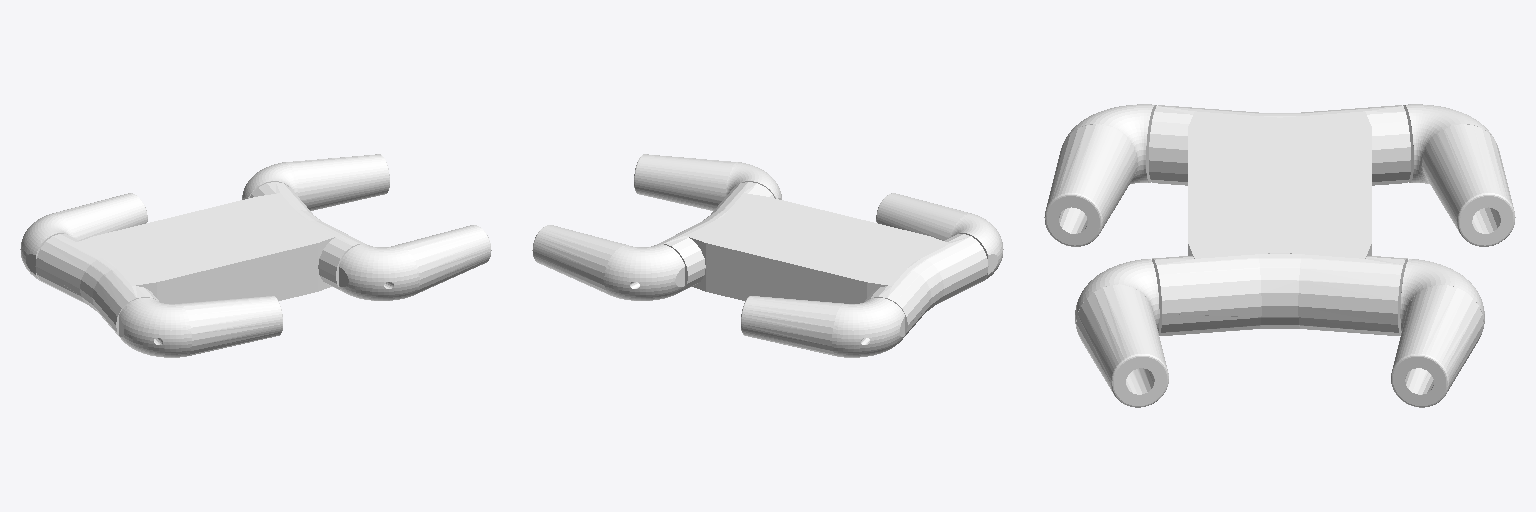
URDF robot description (10_degree):
<?xml version="1.0" encoding="utf-8"?>
<!-- This URDF was automatically created by SolidWorks to URDF Exporter! Originally created by [author] ([email redacted]) 
     Commit Version: 1.5.1-0-g916b5db  Build Version: 1.5.7152.31018
     For more information, please see http://wiki.ros.org/sw_urdf_exporter -->
<robot
  name="10_degree">
  <link
    name="base_link">
    <inertial>
      <origin
        xyz="0 3.7169E-08 3.4694E-18"
        rpy="0 0 0" />
      <mass
        value="2.803" />
      <inertia
        ixx="0.010172985"
        ixy="-1.8326E-18"
        ixz="-8.6349E-11"
        iyy="0.038644490"
        iyz="2.312E-19"
        izz="0.046455070" />
    </inertial>
    <visual>
      <origin
        xyz="0 0 0"
        rpy="0 0 0" />
      <geometry>
        <mesh
          filename="package://10_degree/meshes/base_link.STL" />
      </geometry>
      <material
        name="">
        <color
          rgba="1 1 1 1" />
      </material>
    </visual>
    <collision>
      <origin
        xyz="0 0 0"
        rpy="0 0 0" />
      <geometry>
        <mesh
          filename="package://10_degree/meshes/base_link.STL" />
      </geometry>
    </collision>
  </link>
  <link
    name="left_fromt_link">
    <inertial>
      <origin
        xyz="-2.4339E-08 0.056977 -0.025628"
        rpy="0 0 0" />
      <mass
        value="0.085" />
      <inertia
        ixx="0.000238681"
        ixy="3.9353E-10"
        ixz="9.9842E-10"
        iyy="0.000047092"
        iyz="-1.2438E-05"
        izz="0.000237523" />
    </inertial>
    <visual>
      <origin
        xyz="0 0 0"
        rpy="0 0 0" />
      <geometry>
        <mesh
          filename="package://10_degree/meshes/left_fromt_link.STL" />
      </geometry>
      <material
        name="">
        <color
          rgba="1 1 1 1" />
      </material>
    </visual>
    <collision>
      <origin
        xyz="0 0 0"
        rpy="0 0 0" />
      <geometry>
        <mesh
          filename="package://10_degree/meshes/left_fromt_link.STL" />
      </geometry>
    </collision>
  </link>
  <joint
    name="left_front_leg"
    type="continuous">
    <origin
      xyz="0.15289 0.10144 0"
      rpy="1.5708 1.5708 0" />
    <parent
      link="base_link" />
    <child
      link="left_fromt_link" />
    <axis
      xyz="0 0.17365 -0.98481" />
    <limit
      effort="5"
      velocity="487" />
  </joint>
  <link
    name="right_front_link">
    <inertial>
      <origin
        xyz="2.4339E-08 0.056977 0.025628"
        rpy="0 0 0" />
      <mass
        value="0.085" />
      <inertia
        ixx="0.000238681"
        ixy="-3.9353E-10"
        ixz="9.9842E-10"
        iyy="0.000047092"
        iyz="1.2438E-05"
        izz="0.000237523" />
    </inertial>
    <visual>
      <origin
        xyz="0 0 0"
        rpy="0 0 0" />
      <geometry>
        <mesh
          filename="package://10_degree/meshes/right_front_link.STL" />
      </geometry>
      <material
        name="">
        <color
          rgba="1 1 1 1" />
      </material>
    </visual>
    <collision>
      <origin
        xyz="0 0 0"
        rpy="0 0 0" />
      <geometry>
        <mesh
          filename="package://10_degree/meshes/right_front_link.STL" />
      </geometry>
    </collision>
  </link>
  <joint
    name="right_front_leg"
    type="continuous">
    <origin
      xyz="0.15289 -0.10144 0"
      rpy="1.5708 1.5708 0" />
    <parent
      link="base_link" />
    <child
      link="right_front_link" />
    <axis
      xyz="0 0.17365 0.98481" />
    <limit
      effort="5"
      velocity="487" />
  </joint>
  <link
    name="right_back_link">
    <inertial>
      <origin
        xyz="4.1043E-09 0.061509 0.035133"
        rpy="0 0 0" />
      <mass
        value="0.085" />
      <inertia
        ixx="0.000238681"
        ixy="-5.325E-10"
        ixz="5.8676E-10"
        iyy="0.00004858"
        iyz="-2.0878E-05"
        izz="0.000236035" />
    </inertial>
    <visual>
      <origin
        xyz="0 0 0"
        rpy="0 0 0" />
      <geometry>
        <mesh
          filename="package://10_degree/meshes/right_back_link.STL" />
      </geometry>
      <material
        name="">
        <color
          rgba="1 1 1 1" />
      </material>
    </visual>
    <collision>
      <origin
        xyz="0 0 0"
        rpy="0 0 0" />
      <geometry>
        <mesh
          filename="package://10_degree/meshes/right_back_link.STL" />
      </geometry>
    </collision>
  </link>
  <joint
    name="right_back_leg"
    type="continuous">
    <origin
      xyz="-0.15289 -0.10144 0"
      rpy="1.7453 1.5708 0" />
    <parent
      link="base_link" />
    <child
      link="right_back_link" />
    <axis
      xyz="0 0 1" />
    <limit
      effort="5"
      velocity="487" />
  </joint>
  <link
    name="left_back_link">
    <inertial>
      <origin
        xyz="-4.1043E-09 0.054474 -0.04528"
        rpy="0 0 0" />
      <mass
        value="0.085" />
      <inertia
        ixx="0.000238681"
        ixy="6.263E-10"
        ixz="4.8538E-10"
        iyy="0.000061373"
        iyz="0.000051675"
        izz="0.000223242" />
    </inertial>
    <visual>
      <origin
        xyz="0 0 0"
        rpy="0 0 0" />
      <geometry>
        <mesh
          filename="package://10_degree/meshes/left_back_link.STL" />
      </geometry>
      <material
        name="">
        <color
          rgba="1 1 1 1" />
      </material>
    </visual>
    <collision>
      <origin
        xyz="0 0 0"
        rpy="0 0 0" />
      <geometry>
        <mesh
          filename="package://10_degree/meshes/left_back_link.STL" />
      </geometry>
    </collision>
  </link>
  <joint
    name="left_back_leg"
    type="continuous">
    <origin
      xyz="-0.15289 0.10144 0"
      rpy="1.5708 1.5708 0" />
    <parent
      link="base_link" />
    <child
      link="left_back_link" />
    <axis
      xyz="0 -0.17365 -0.98481" />
    <limit
      effort="5"
      velocity="487" />
  </joint>
</robot>

--- Facts derived from the render (not from the file) ---
3 views of the same robot in one strip: view 1: azimuth 30°, elevation 25°; view 2: azimuth 150°, elevation 25°; view 3: azimuth 270°, elevation 25° (orthographic).
Robot: 10_degree — 5 links, 4 joints (4 continuous); root link base_link; default pose: every joint at zero.
Links seen in each view (by area): view 1: base_link, right_back_link, right_front_link, left_fromt_link, left_back_link; view 2: base_link, left_back_link, left_fromt_link, right_front_link, right_back_link; view 3: base_link, right_back_link, left_back_link, right_front_link, left_fromt_link.
Boxes of the visible links, x1=… form: base_link: x1=35, y1=182, x2=364, y2=335; right_back_link: x1=119, y1=296, x2=282, y2=357; right_front_link: x1=339, y1=225, x2=491, y2=300; left_fromt_link: x1=242, y1=154, x2=389, y2=210; left_back_link: x1=20, y1=193, x2=147, y2=282; base_link: x1=659, y1=182, x2=988, y2=335; left_back_link: x1=741, y1=296, x2=904, y2=357; left_fromt_link: x1=532, y1=225, x2=684, y2=300; right_front_link: x1=634, y1=154, x2=781, y2=210; right_back_link: x1=876, y1=193, x2=1003, y2=282; base_link: x1=1149, y1=105, x2=1410, y2=335; right_back_link: x1=1044, y1=104, x2=1156, y2=246; left_back_link: x1=1403, y1=104, x2=1515, y2=246; right_front_link: x1=1075, y1=259, x2=1168, y2=407; left_fromt_link: x1=1391, y1=259, x2=1484, y2=407.
Bounding box of the posed robot: 0.4941 × 0.3837 × 0.064 m (x, y, z).
Meshes: 5 distinct files referenced, 5 mesh visuals loaded (5 binary STL).